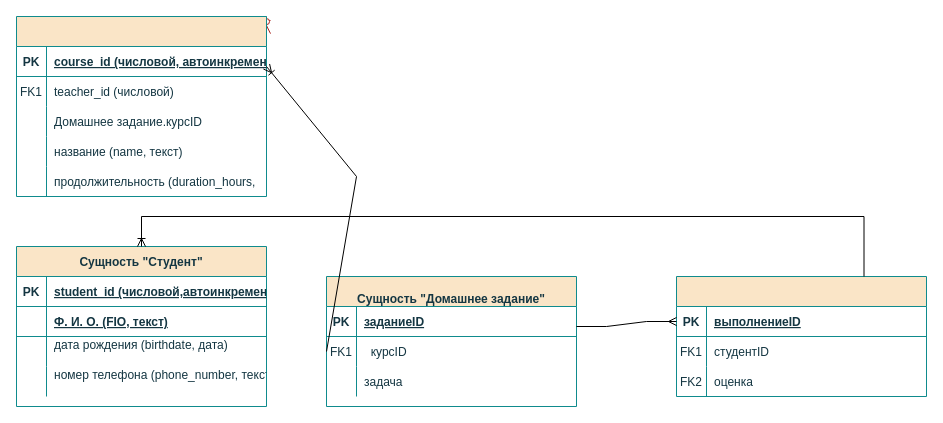
The diagram is 943 pixels wide and 423 high, and some of its shapes have lost their labels. The box of each missing label's shape, as (x1, y1, x2, y2) in pixels:
Сущность "Выполнение домашнего задания": (676, 276, 926, 396)
Сущность "Курс": (16, 16, 266, 196)
